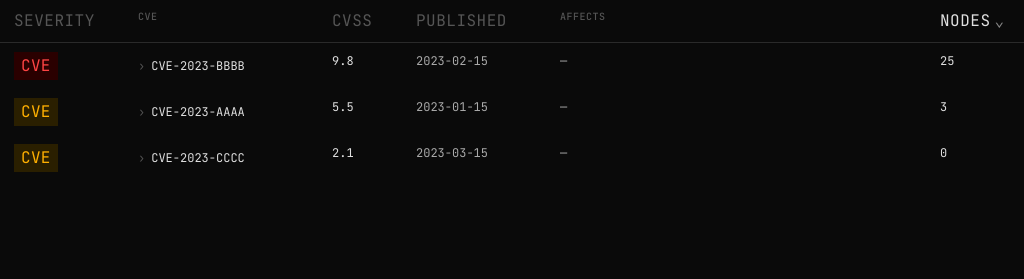
Test: VulnerabilitiesView › expanding a row reveals its affected nodes (links into the explorer)
The width and height of the screenshot is (1024, 279).
Click the element with test id "cve-row-CVE-2023-BBBB" at (36, 66), box [0,43,1023,89]
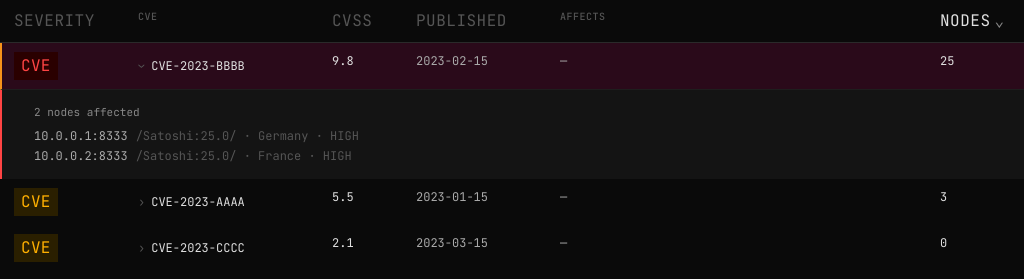
expect the element with test id "affected-nodes-list" is shown: met, box [34,105,359,164]
